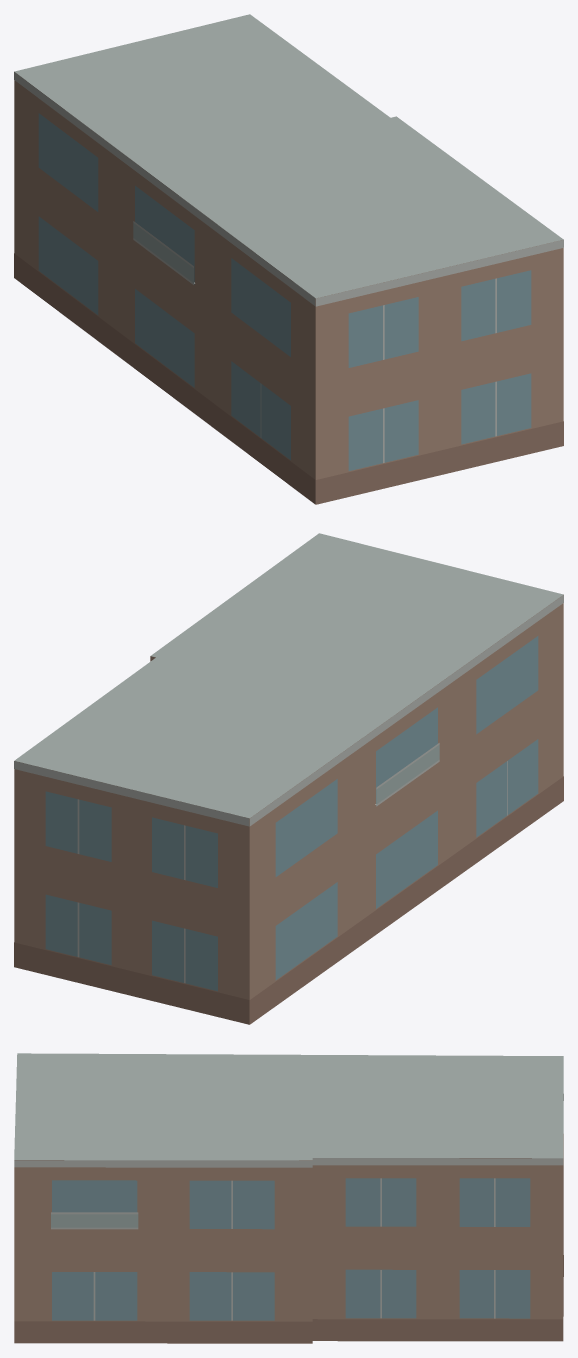
The model's file is survey-upis-32877382.glb.
3 views of the same model, one above another, from view 1: azimuth 30°, elevation 25°; view 2: azimuth 150°, elevation 25°; view 3: azimuth 270°, elevation 25° (orthographic). The views are drawn at different scales.
Parts seen in each view (by area): view 1: survey-upis-32877382.tmp; view 2: survey-upis-32877382.tmp; view 3: survey-upis-32877382.tmp.
Part boxes in pixels (box(x1,y1,x2,y2)): survey-upis-32877382.tmp: box(14, 14, 563, 504); survey-upis-32877382.tmp: box(14, 533, 563, 1024); survey-upis-32877382.tmp: box(14, 1053, 563, 1343).
Bounding box in the file's own units: 7.68 × 6.1 × 16.6.
